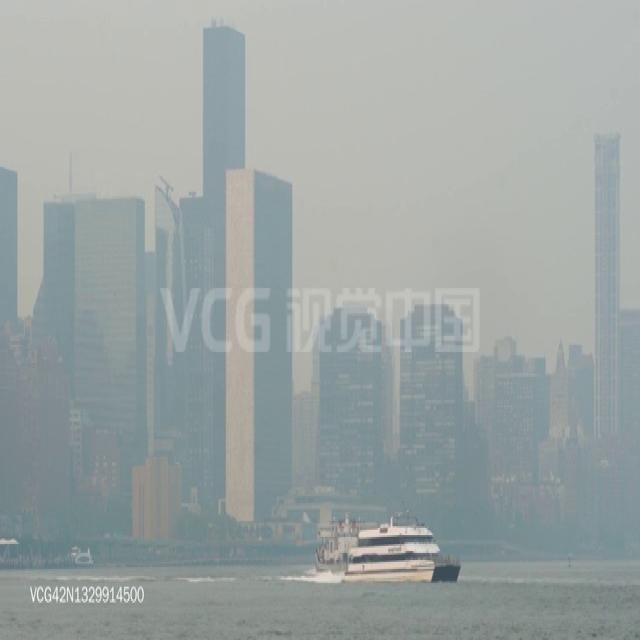houseboat: (64, 544, 94, 572)
passenger ship: (344, 517, 455, 582), (314, 507, 378, 572)
